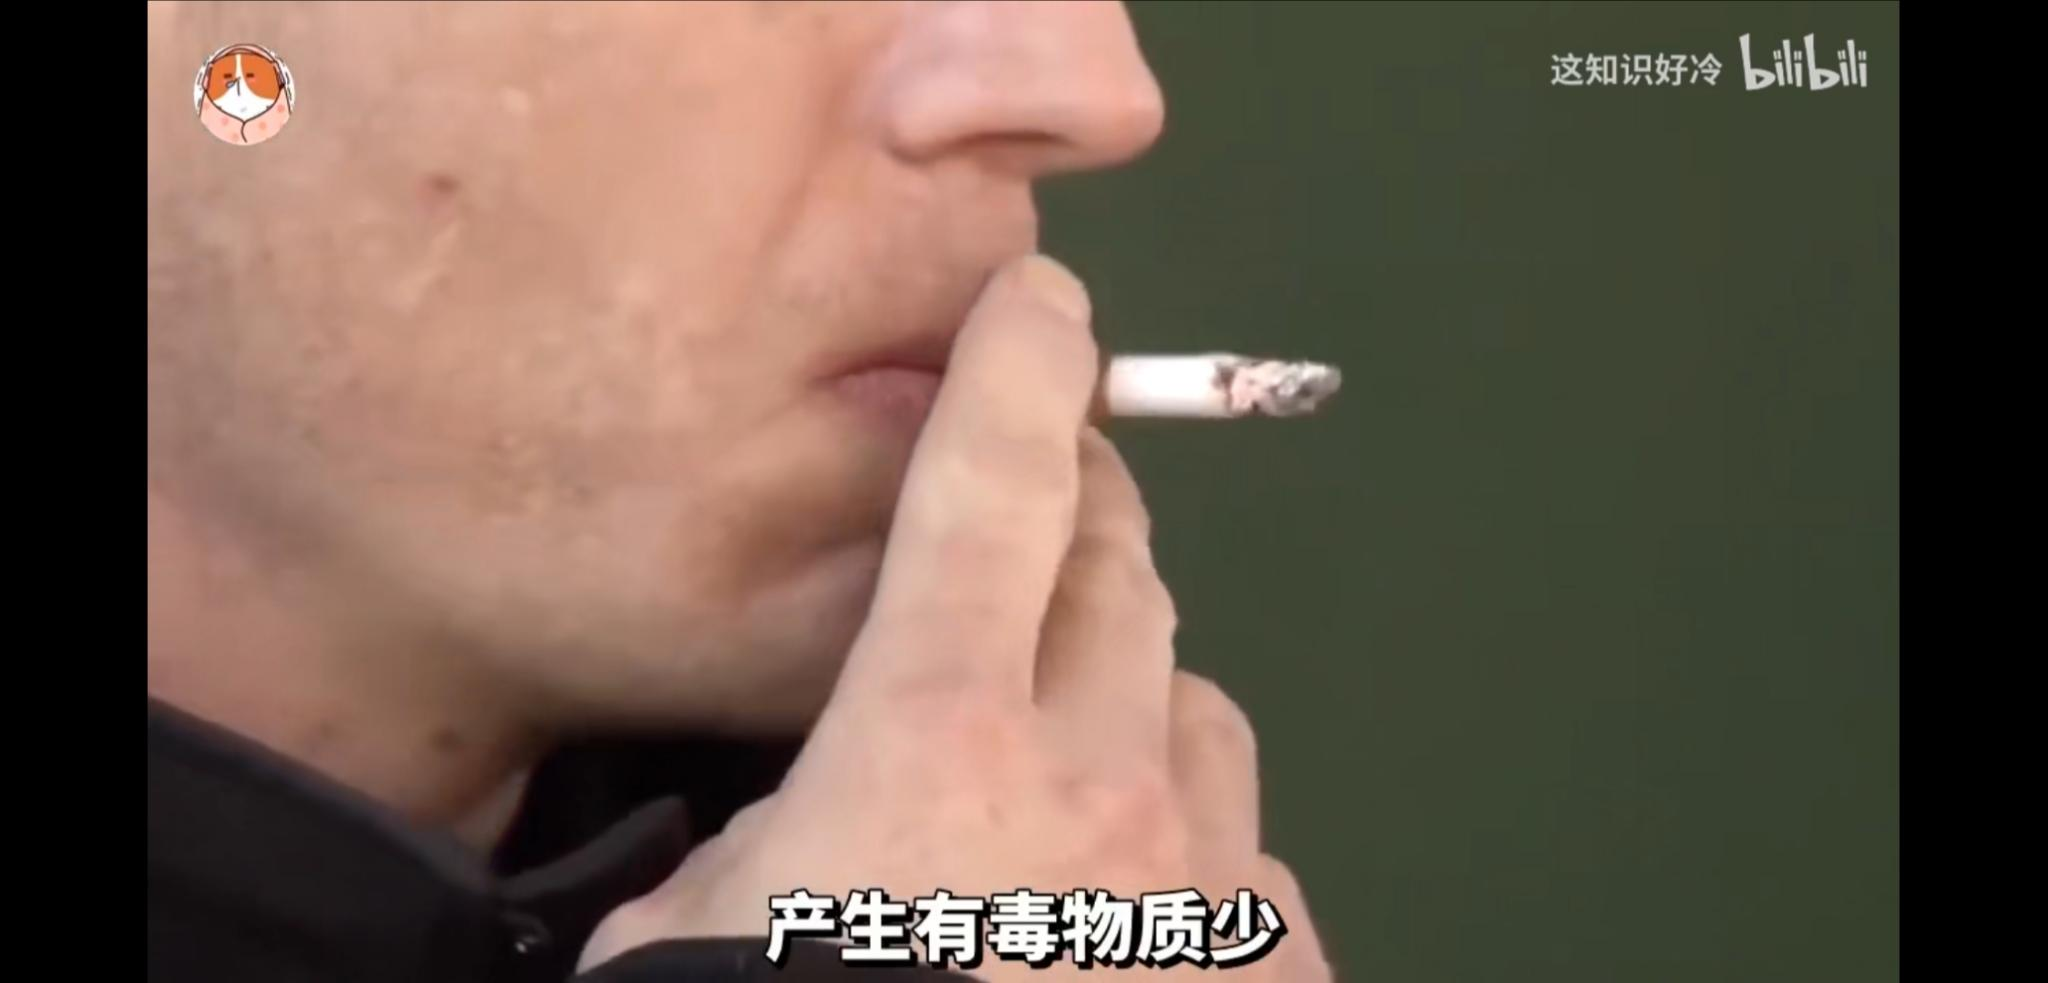Cigarette: (1027, 345, 1337, 419)
